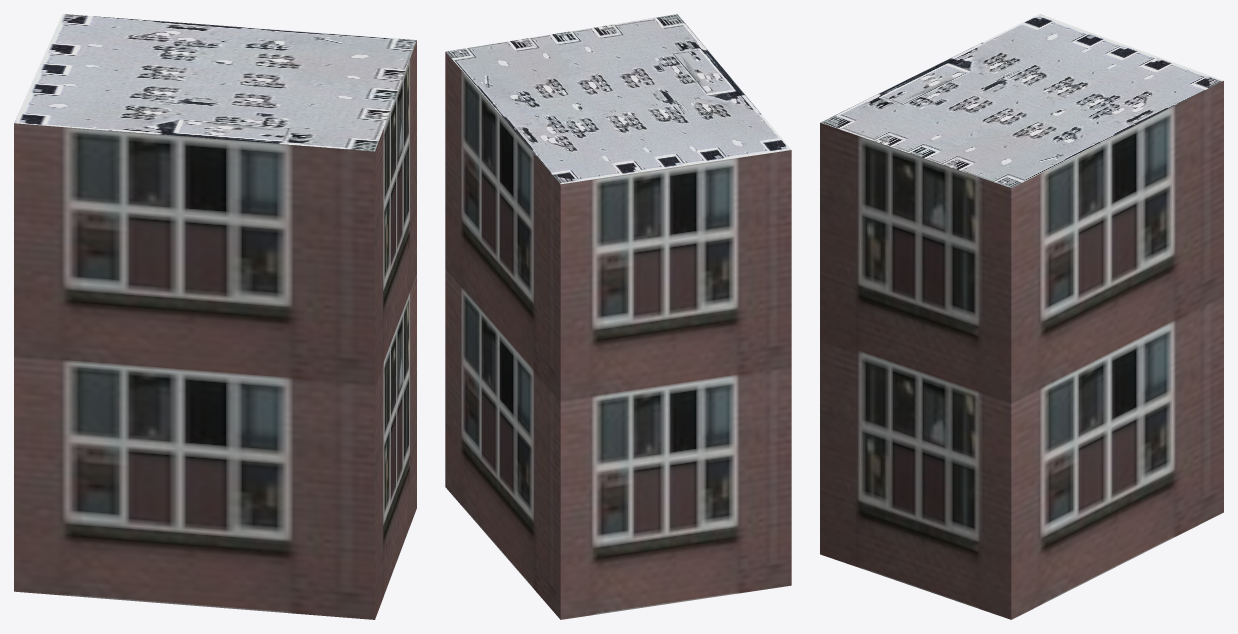
File: ResTex__1772.fbx
3 renders of one model, left to right at view 1: azimuth 30°, elevation 25°; view 2: azimuth 150°, elevation 25°; view 3: azimuth 270°, elevation 25°, orthographic. The views are drawn at different scales.
Visible parts, largest first — view 1: CityEngineMaterial_12_m, CityEngineMaterial_m; view 2: CityEngineMaterial_12_m, CityEngineMaterial_m; view 3: CityEngineMaterial_12_m, CityEngineMaterial_m.
Boxes of the visible parts, x1,y1,x2,y2 form: CityEngineMaterial_12_m: (14, 40, 416, 619); CityEngineMaterial_m: (14, 14, 416, 151); CityEngineMaterial_12_m: (445, 52, 791, 619); CityEngineMaterial_m: (446, 14, 790, 184); CityEngineMaterial_12_m: (820, 81, 1223, 619); CityEngineMaterial_m: (820, 14, 1223, 188).
Bounding box in the file's own units: 5.19 × 6 × 5.09.
Materials: 2 (2 with a texture image).
